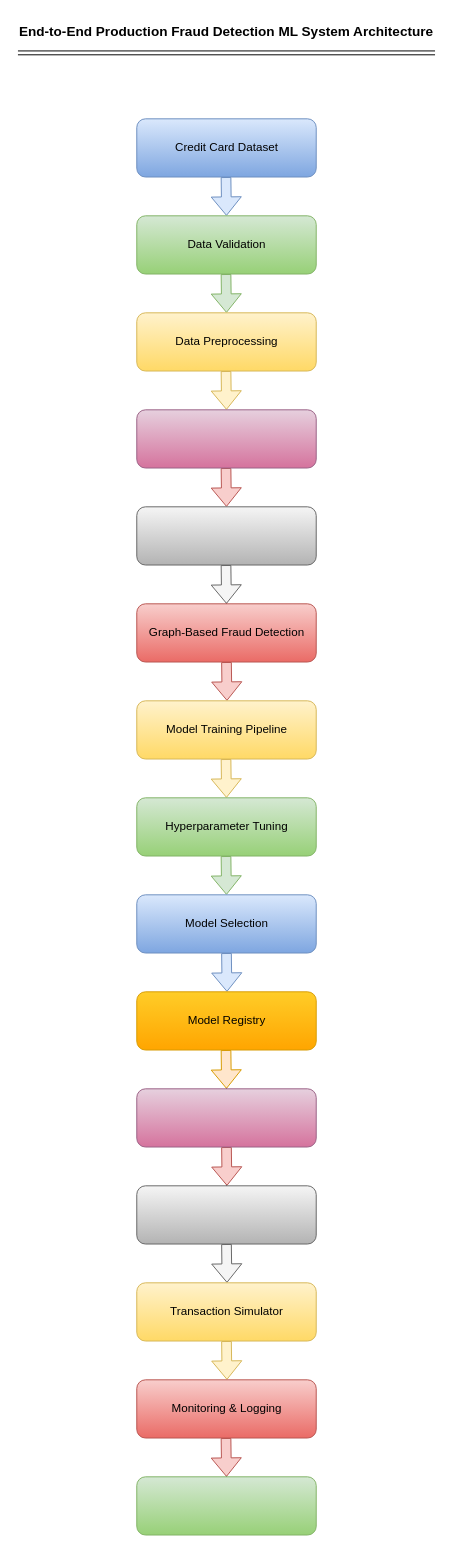
Some shapes in this 452 by 1552 pixel diagram are drawn without their labels. Each missing label, with the centre of its shape:
"Batch / Real-Time Inference" goes at pixel 226 1117.
"FastAPI Service" goes at pixel 226 1214.
"Feature Engineering" goes at pixel 226 438.
"Feature Store" goes at pixel 226 535.
"Streamlit Dashboard" goes at pixel 226 1505.
